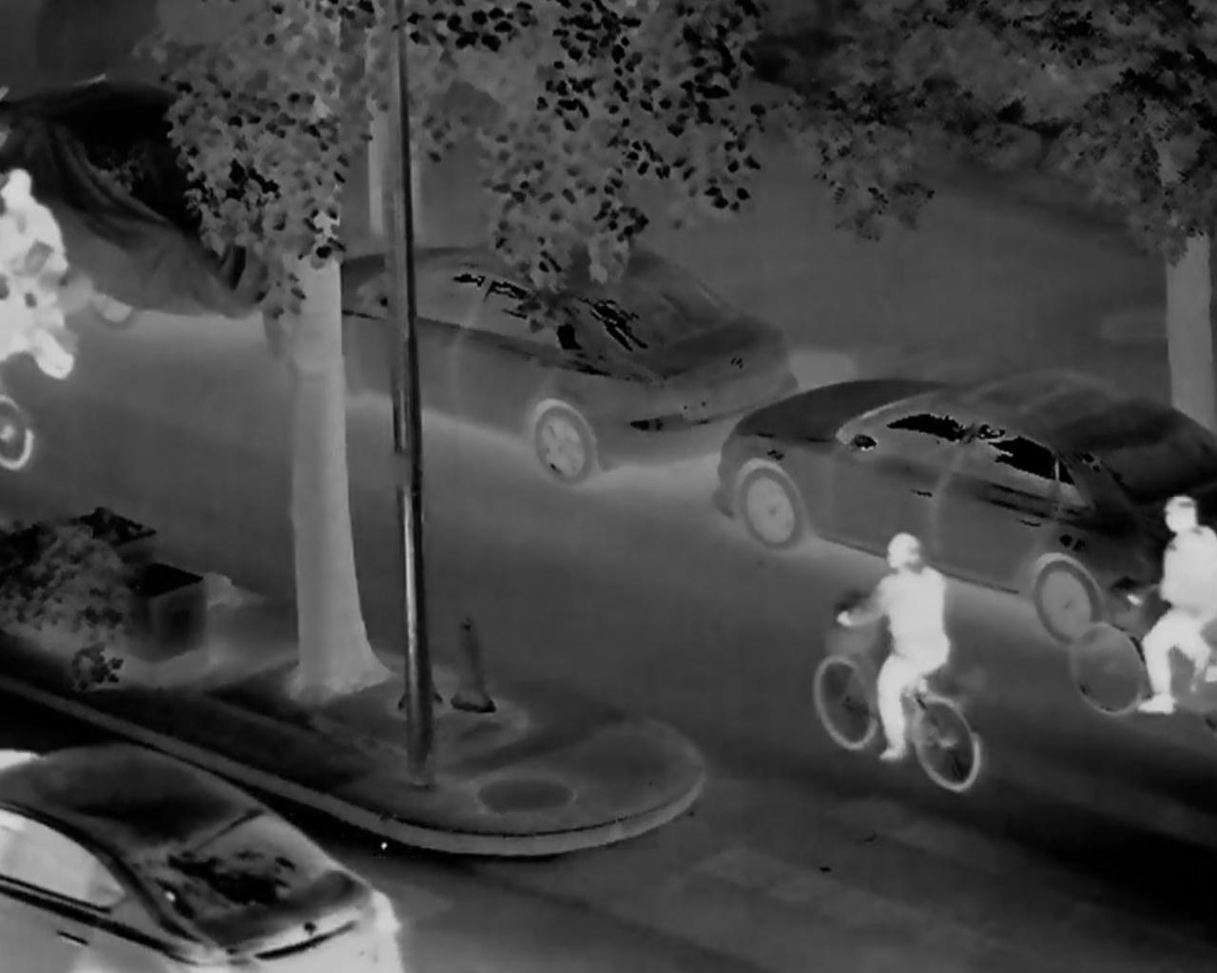person: (822, 519, 977, 761), (1137, 484, 1217, 703)
